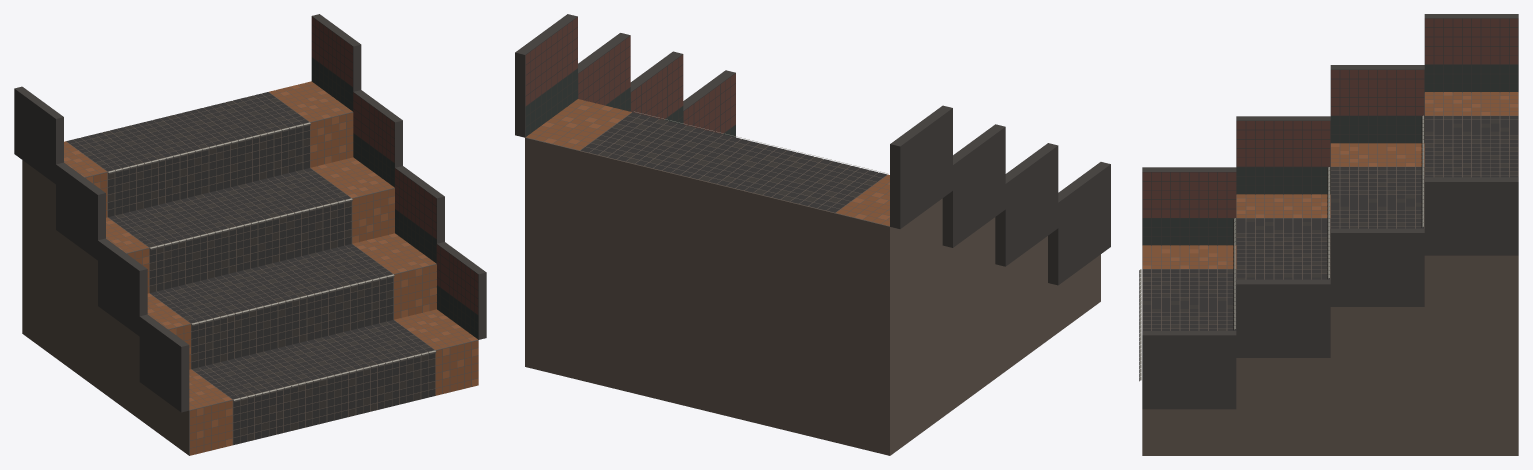
File: xuhui-defour-apartments-mosaic-stair-full.glb
The picture shows the model from 3 angles, left to right: view 1: azimuth 30°, elevation 25°; view 2: azimuth 150°, elevation 25°; view 3: azimuth 270°, elevation 25°; orthographic projection. The views are drawn at different scales.
Parts seen in each view (by area): view 1: 巨福公寓公共楼梯马赛克踏步; view 2: 巨福公寓公共楼梯马赛克踏步; view 3: 巨福公寓公共楼梯马赛克踏步.
Boxes of the visible parts, <box> form: 巨福公寓公共楼梯马赛克踏步: <box>14,14,486,455</box>; 巨福公寓公共楼梯马赛克踏步: <box>515,14,1110,455</box>; 巨福公寓公共楼梯马赛克踏步: <box>1139,14,1518,455</box>.
Bounding box in the file's own units: 1.14 × 0.882 × 1.09.
